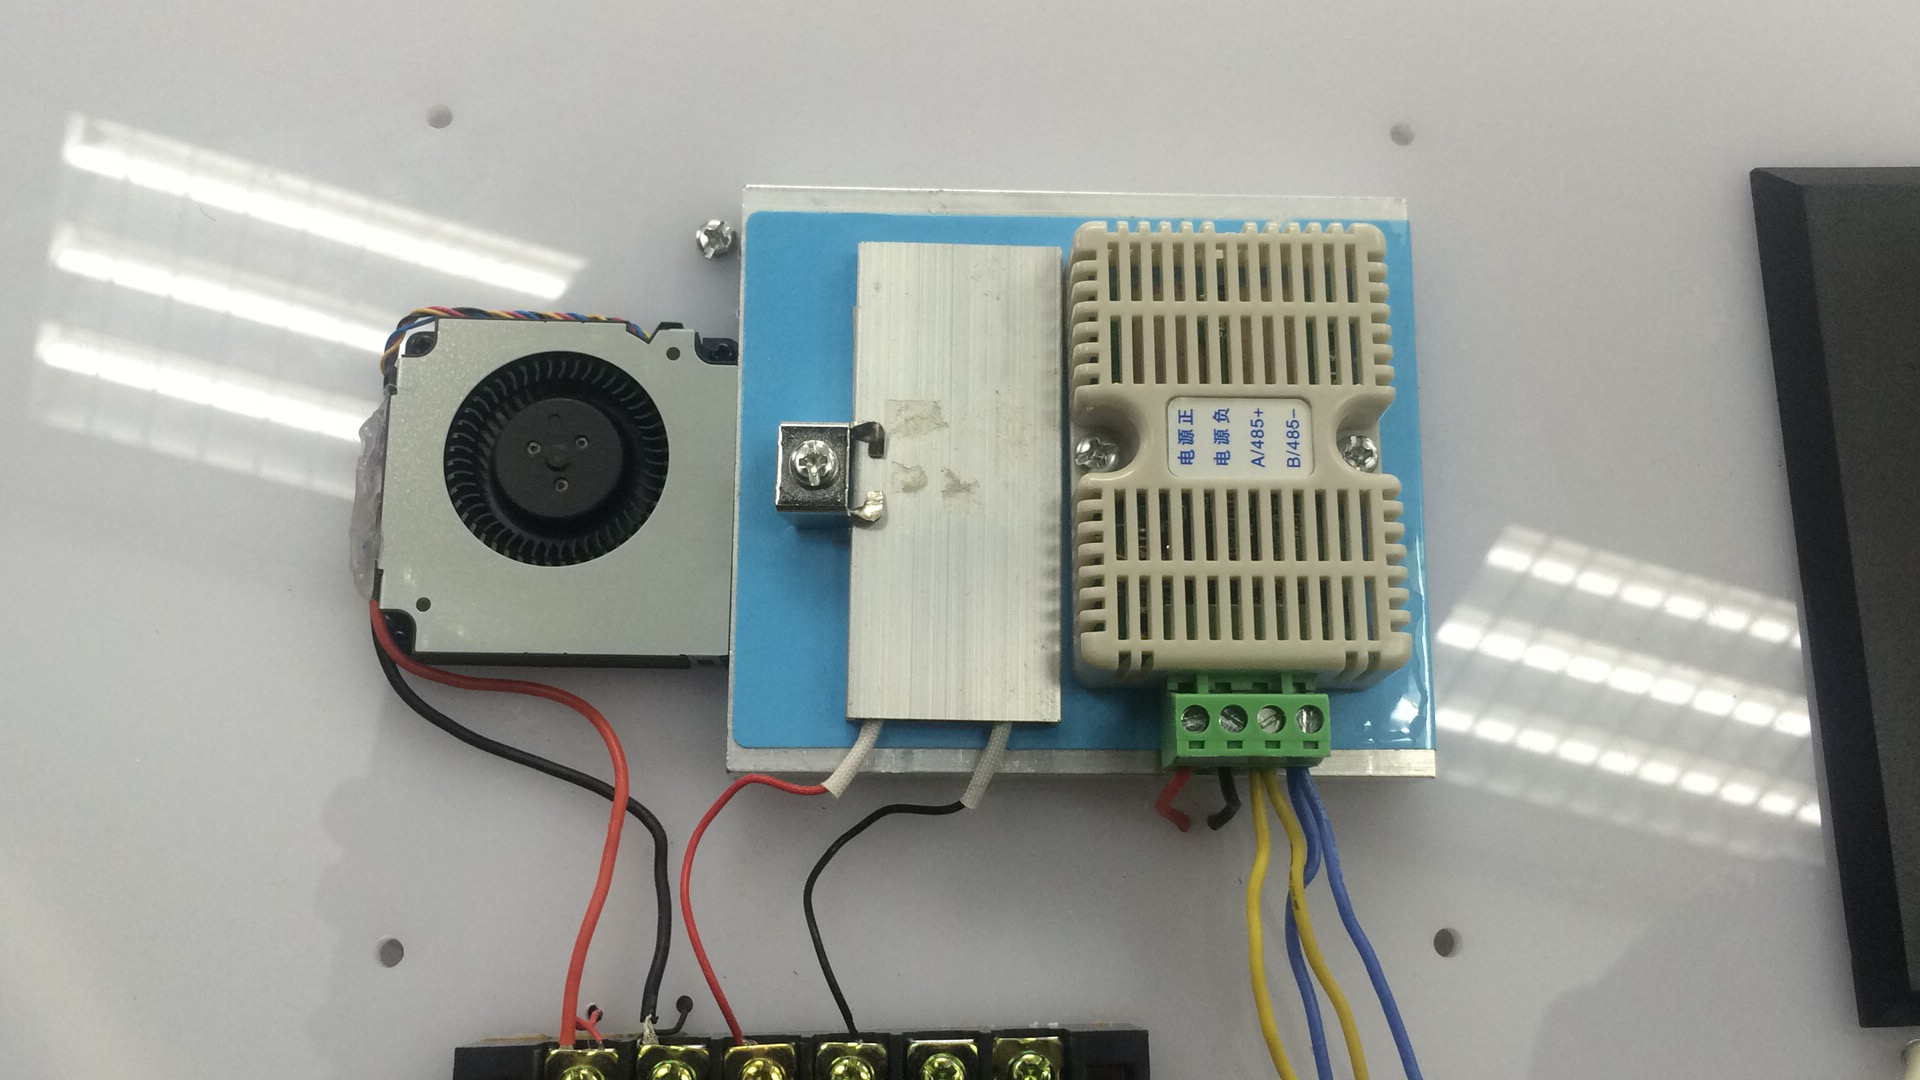fan: (364, 274, 737, 705)
heater: (816, 236, 1083, 736)
temperature: (1068, 212, 1444, 694)
